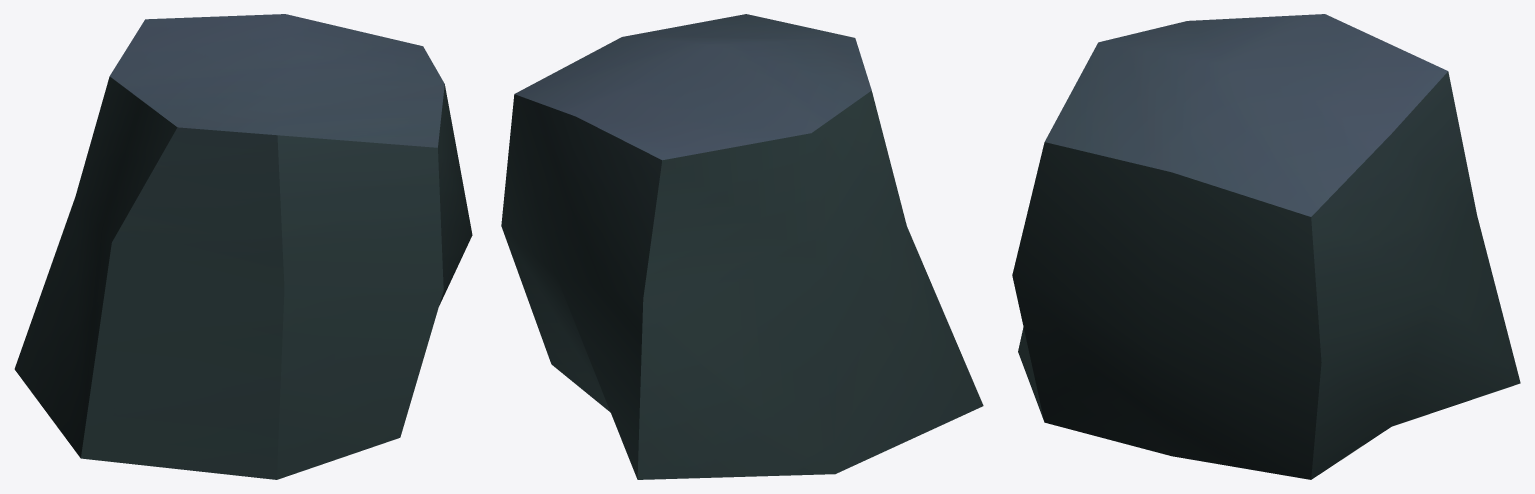
Rendered from undead_mine_stone_05.fbx.
The picture shows the model from 3 angles, left to right: view 1: azimuth 30°, elevation 25°; view 2: azimuth 150°, elevation 25°; view 3: azimuth 270°, elevation 25°; orthographic projection. The views are drawn at different scales.
Parts seen in each view (by area): view 1: undead_mine_stone_05; view 2: undead_mine_stone_05; view 3: undead_mine_stone_05.
Part boxes in pixels (left/top/right/bottom): undead_mine_stone_05: left=14, top=14, right=472, bottom=479; undead_mine_stone_05: left=501, top=14, right=983, bottom=479; undead_mine_stone_05: left=1012, top=14, right=1520, bottom=479.
Bounding box in the file's own units: 2.26 × 1.69 × 2.24.
